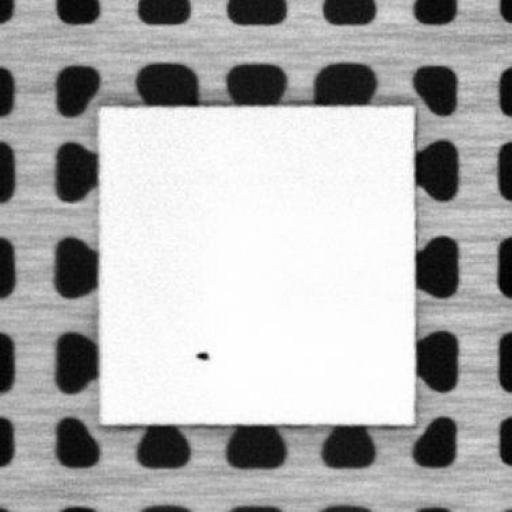DIE_INK: (194, 346, 210, 361)
